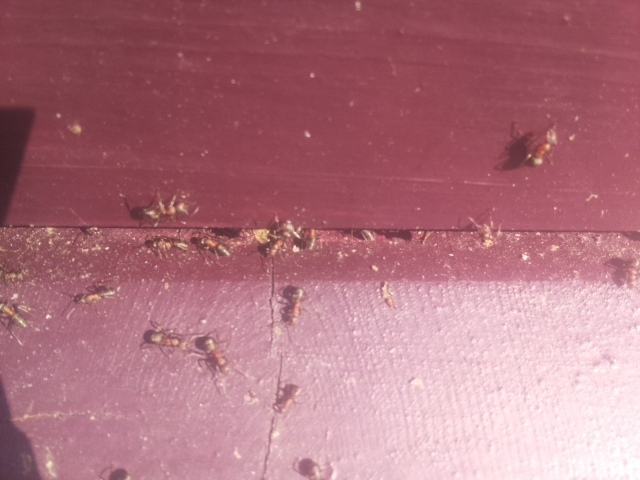ant: (199, 327, 235, 386), (525, 120, 562, 174), (131, 196, 193, 225), (268, 378, 307, 419), (68, 282, 121, 309), (141, 323, 191, 351), (287, 452, 335, 480), (283, 278, 306, 333), (281, 216, 310, 256), (0, 293, 31, 330), (373, 277, 402, 310), (193, 235, 232, 259), (259, 230, 287, 262)
